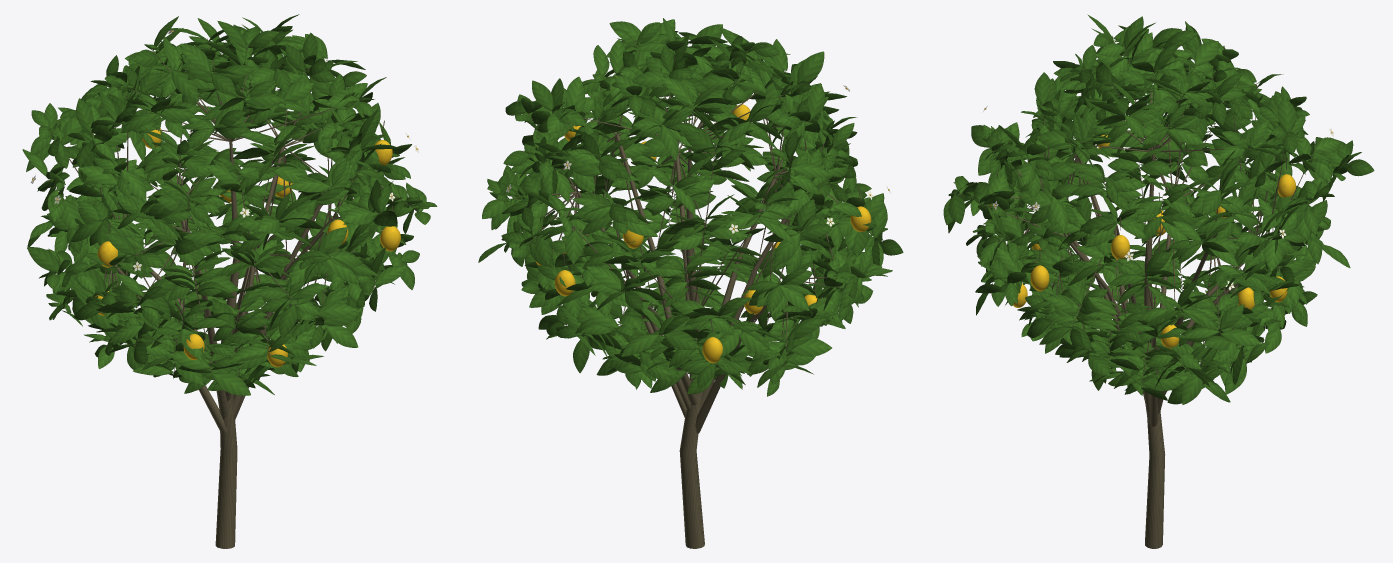
File: lemon-tree.glb
3 views of the same model, side by side, from view 1: azimuth 30°, elevation 25°; view 2: azimuth 150°, elevation 25°; view 3: azimuth 270°, elevation 25° (orthographic).
Parts seen in each view (by area): view 1: lemon_leaves, lemon_bark, lemon_fruit; view 2: lemon_leaves, lemon_bark, lemon_fruit; view 3: lemon_leaves, lemon_bark, lemon_fruit.
Boxes of the visible parts, <box> form: lemon_leaves: <box>22,14,437,395</box>; lemon_bark: <box>49,38,419,548</box>; lemon_fruit: <box>95,128,400,367</box>; lemon_leaves: <box>478,18,903,396</box>; lemon_bark: <box>511,35,869,548</box>; lemon_fruit: <box>535,104,871,363</box>; lemon_leaves: <box>943,14,1374,404</box>; lemon_bark: <box>953,37,1348,548</box>; lemon_fruit: <box>990,135,1295,349</box>.
Bounding box in the file's own units: 1.9 × 2.4 × 1.9.
Materials: 5 (2 with a texture image).
